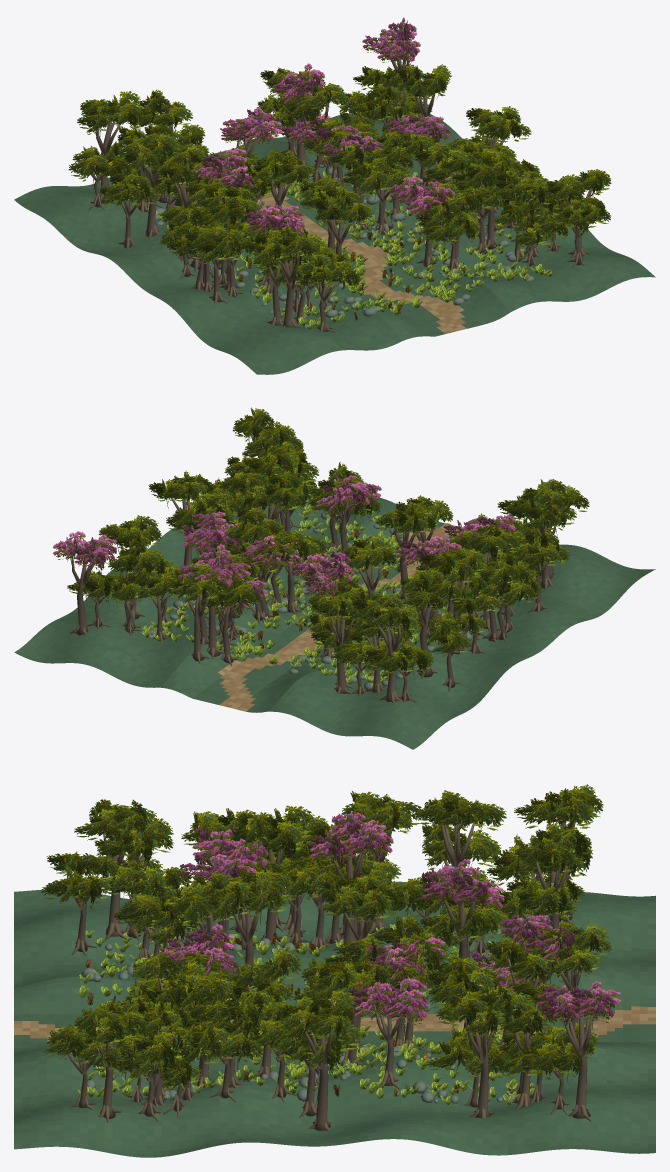
File: environment.glb
3 renders of one model, top to bottom at view 1: azimuth 30°, elevation 25°; view 2: azimuth 150°, elevation 25°; view 3: azimuth 270°, elevation 25°, orthographic. The views are drawn at different scales.
Visible parts, largest first — view 1: Dossel_e_subbosque, Terra_e_trilha, Troncos_e_sapopemas, Seixos; view 2: Dossel_e_subbosque, Terra_e_trilha, Troncos_e_sapopemas, Seixos, Cipos; view 3: Dossel_e_subbosque, Terra_e_trilha, Troncos_e_sapopemas, Seixos, Cipos.
Boxes of the visible parts, box(x1,y1,x2,y2) form: Dossel_e_subbosque: box(68, 17, 611, 329); Terra_e_trilha: box(14, 113, 655, 374); Troncos_e_sapopemas: box(88, 35, 592, 332); Seixos: box(155, 164, 534, 327); Dossel_e_subbosque: box(53, 407, 589, 685); Terra_e_trilha: box(14, 496, 655, 749); Troncos_e_sapopemas: box(70, 425, 555, 702); Seixos: box(147, 512, 534, 689); Cipos: box(70, 435, 568, 679); Dossel_e_subbosque: box(41, 784, 621, 1104); Terra_e_trilha: box(14, 881, 655, 1157); Troncos_e_sapopemas: box(67, 817, 592, 1130); Seixos: box(81, 937, 519, 1104); Cipos: box(74, 823, 593, 1097).
Size of the model in its own units: 74 by 20.73 by 78.
Materials: 2 (1 with a texture image).
